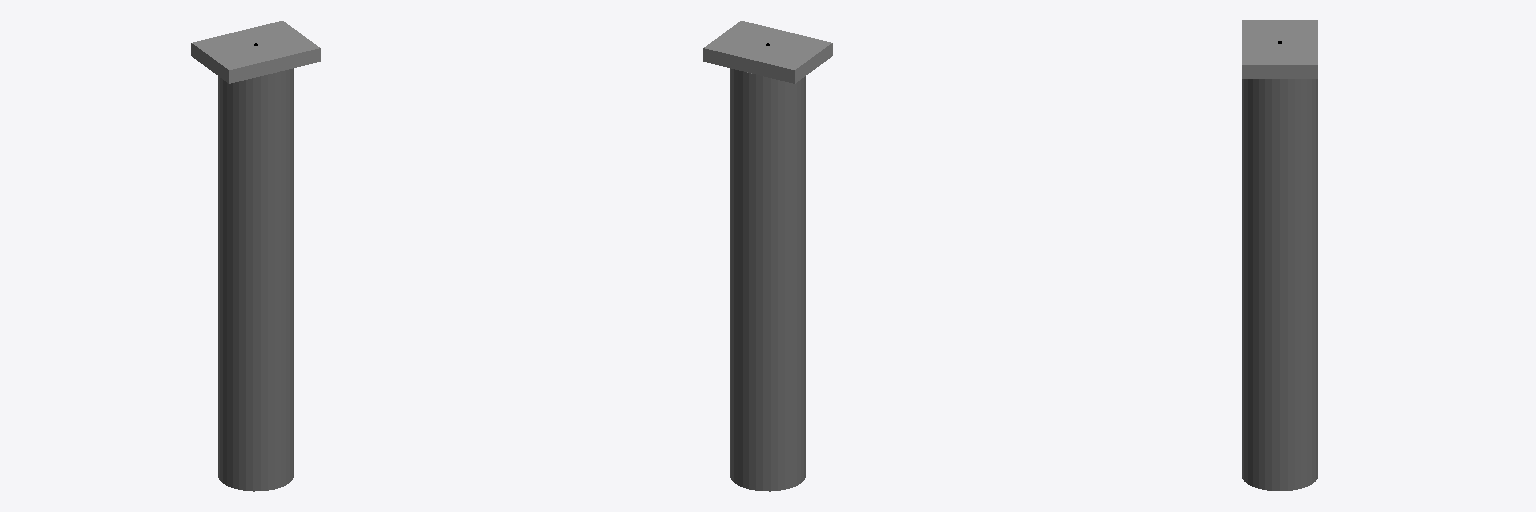
The robot description file, URDF, robot "pedestal":
<?xml version="1.0"?>
<robot name="pedestal">

  <!-- Pedestal Base Link (origin at UR7e base_link) -->
  <link name="pedestal_base">
    <visual>
      <geometry>
        <box size="0.01 0.01 0.01"/>
      </geometry>
      <material name="transparent">
        <color rgba="0 0 0 0"/>
      </material>
    </visual>
  </link>

  <!-- Rectangular Platform -->
  <link name="platform">
    <visual>
      <geometry>
        <!-- Platform extends in x direction, roughly 0.3m x 0.2m x 0.05m thick -->
        <box size="0.35 0.25 0.05"/>
      </geometry>
      <material name="platform_gray">
        <color rgba="0.6 0.6 0.6 1"/>
      </material>
    </visual>
    <collision>
      <geometry>
        <box size="0.35 0.25 0.05"/>
      </geometry>
    </collision>
    <inertial>
      <mass value="10.0"/>
      <inertia ixx="0.1" ixy="0.0" ixz="0.0" iyy="0.1" iyz="0.0" izz="0.1"/>
    </inertial>
  </link>

  <joint name="pedestal_to_platform" type="fixed">
    <parent link="pedestal_base"/>
    <child link="platform"/>
    <!-- Platform sits at base_link height, slightly below (offset to sit on top of column) -->
    <origin xyz="0.0 0.0 -0.025" rpy="0 0 0"/>
  </joint>

  <!-- Cylindrical Column (Sawyer-style pedestal) -->
  <link name="column">
    <visual>
      <geometry>
        <!-- Sawyer pedestal: radius ~0.127m (5 inches), length 1.524m (60 inches) -->
        <cylinder radius="0.127" length="1.524"/>
      </geometry>
      <material name="column_gray">
        <color rgba="0.5 0.5 0.5 1"/>
      </material>
    </visual>
    <collision>
      <geometry>
        <cylinder radius="0.127" length="1.524"/>
      </geometry>
    </collision>
    <inertial>
      <mass value="50.0"/>
      <inertia ixx="10.0" ixy="0.0" ixz="0.0" iyy="10.0" iyz="0.0" izz="1.0"/>
    </inertial>
  </link>

  <joint name="platform_to_column" type="fixed">
    <parent link="platform"/>
    <child link="column"/>
    <!-- Column center is at -0.787m (half of 1.524m below platform) -->
    <origin xyz="0.0 0.0 -0.787" rpy="0 0 0"/>
  </joint>

</robot>

--- What the picture shows (computed from the rendered views, not written in the file) ---
3 views of the same robot in one strip: view 1: azimuth 30°, elevation 25°; view 2: azimuth 150°, elevation 25°; view 3: azimuth 270°, elevation 25° (orthographic).
Robot: pedestal — 3 links, 2 joints (2 fixed); root link pedestal_base; default pose: every joint at zero.
Visible links, largest first — view 1: column, platform; view 2: column, platform; view 3: column, platform.
Boxes of the visible links, x1,y1,x2,y2 form: column: [218, 68, 293, 491]; platform: [191, 21, 320, 83]; column: [730, 68, 805, 491]; platform: [703, 21, 832, 83]; column: [1242, 79, 1317, 490]; platform: [1242, 20, 1317, 78].
Bounding box of the posed robot: 0.35 × 0.254 × 1.58 m (x, y, z).
Geometry: primitives only (box / cylinder / sphere), no mesh files.